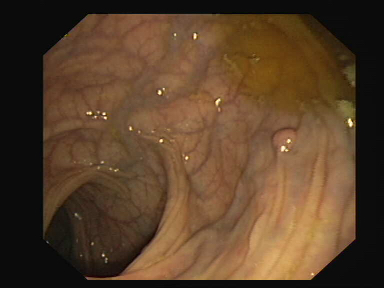polyp: (270, 124, 303, 161)
